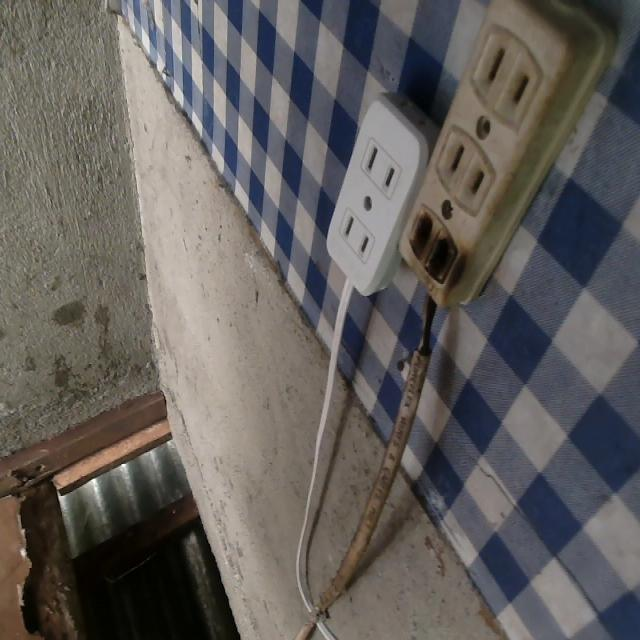-: (402, 198, 466, 290)
